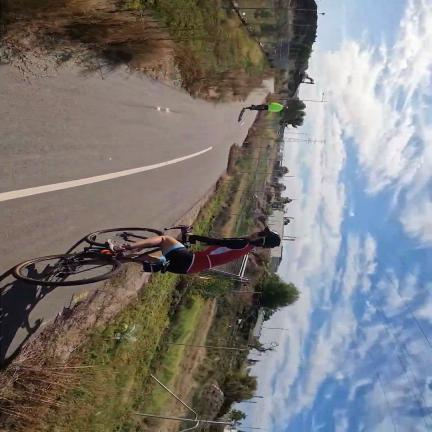Bike_Lane: (0, 66, 254, 365)
